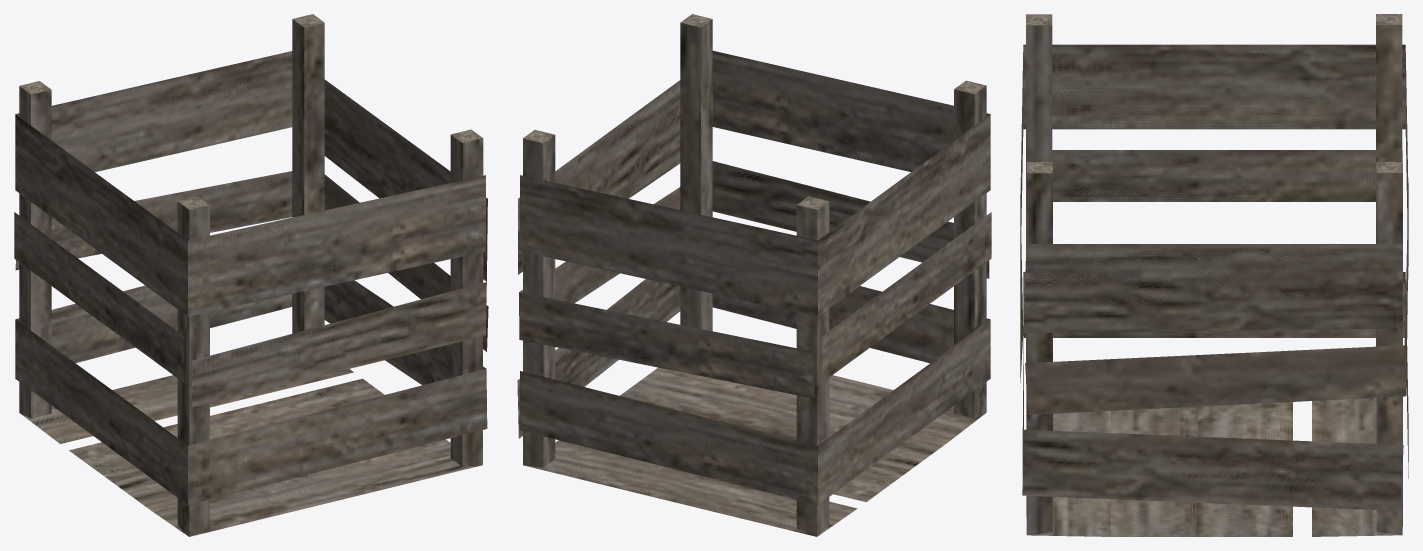
The model's file is Crate1_LOD1.fbx.
The picture shows the model from 3 angles, left to right: view 1: azimuth 30°, elevation 25°; view 2: azimuth 150°, elevation 25°; view 3: azimuth 270°, elevation 25°; orthographic projection. The views are drawn at different scales.
Parts seen in each view (by area): view 1: polySurface47; view 2: polySurface47; view 3: polySurface47.
Boxes of the visible parts, <box> form: polySurface47: <box>14,14,488,536</box>; polySurface47: <box>517,14,991,536</box>; polySurface47: <box>1020,14,1408,536</box>.
Bounding box in the file's own units: 0.994 × 1.03 × 0.994.
